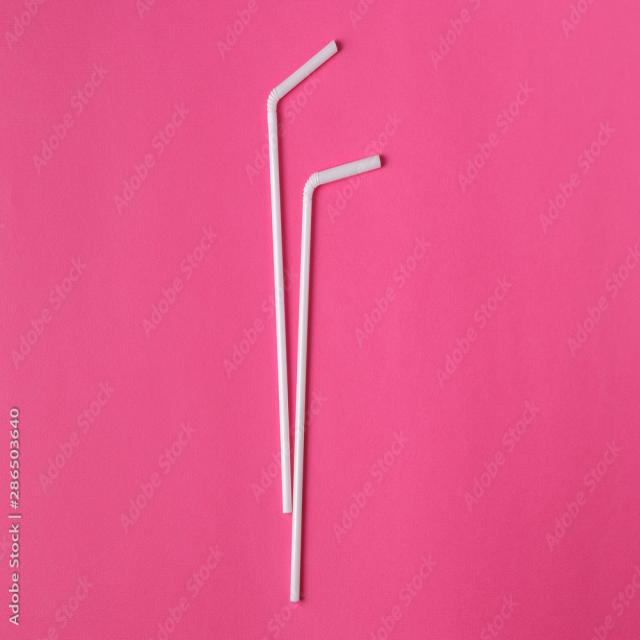plastic: (288, 99, 391, 615)
